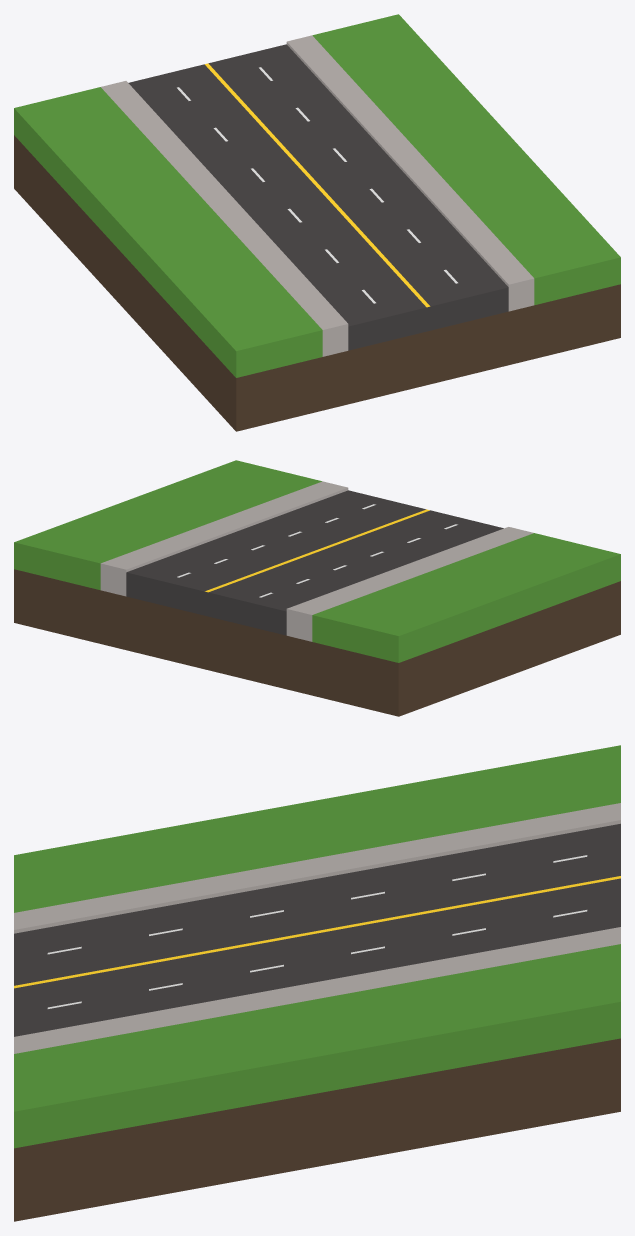
File: tile-mainroad-hill.glb
The picture shows the model from 3 angles, top to bottom: view 1: azimuth 30°, elevation 25°; view 2: azimuth 150°, elevation 25°; view 3: azimuth 270°, elevation 25°; orthographic projection. The views are drawn at different scales.
Parts seen in each view (by area): view 1: tile-mainroad-hill; view 2: tile-mainroad-hill; view 3: tile-mainroad-hill.
Boxes of the visible parts, x1,y1,x2,y2 form: tile-mainroad-hill: (14, 14, 620, 431); tile-mainroad-hill: (14, 460, 620, 716); tile-mainroad-hill: (14, 745, 620, 1221).
Size of the model in its own units: 30 by 12 by 30.
Materials: 1 (1 with a texture image).
